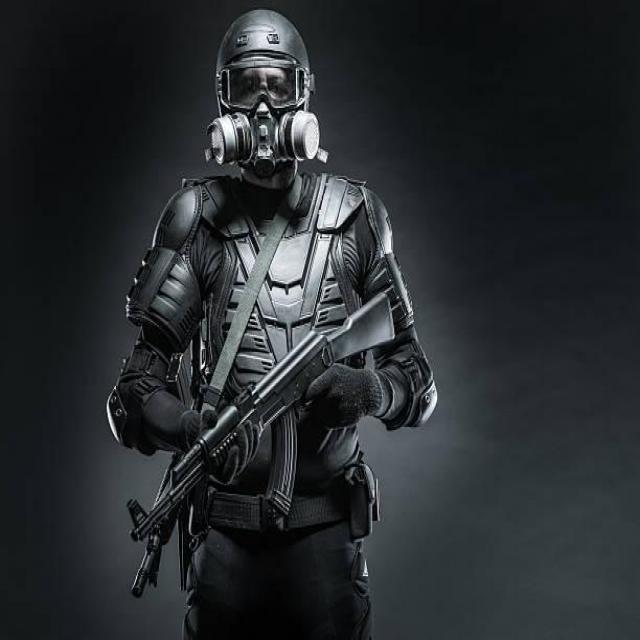weapon: (124, 292, 395, 544)
